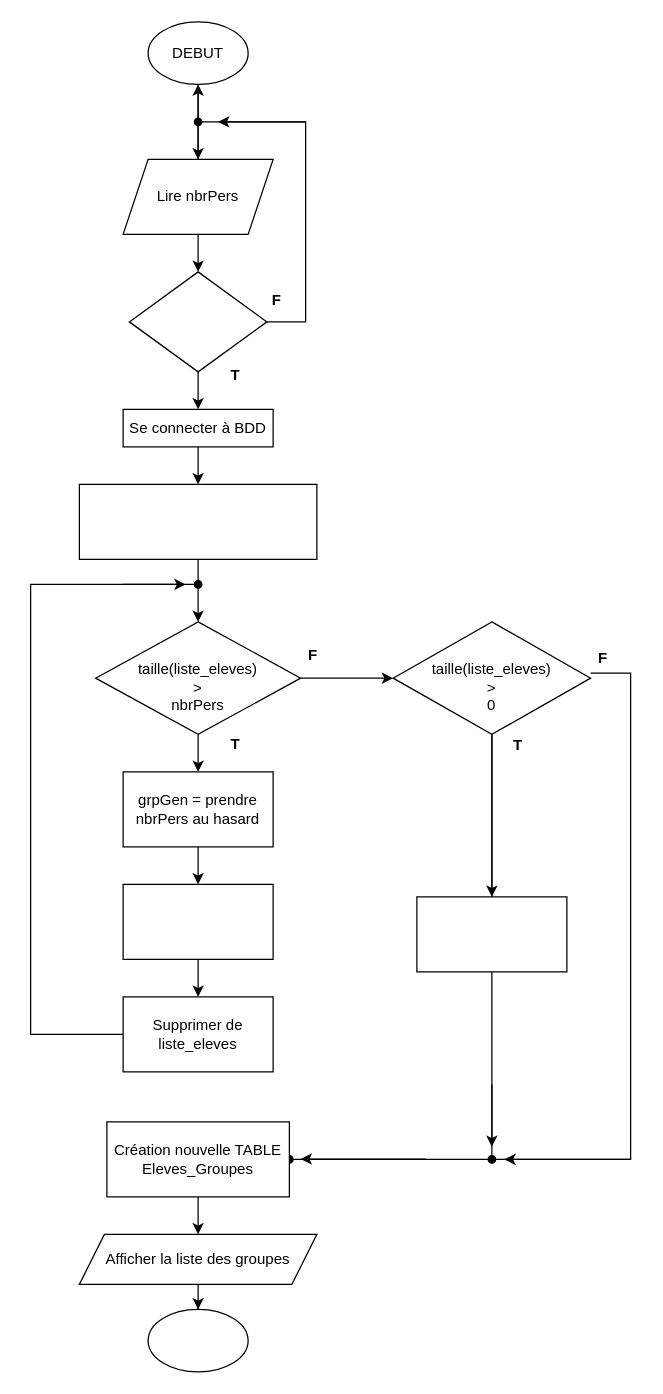
Image size: 663x1394. Some labels were removed from this diagram. Each missing label, with the centre of its shape:
"ajouter à liste_groupe" goes at point (197, 921).
"FIN" goes at point (197, 1340).
"liste_eleves = récupère données de la TABLE Eleves" goes at point (197, 521).
"liste_groupe" goes at point (491, 934).
"nbrPers >= 2" goes at point (197, 321).
